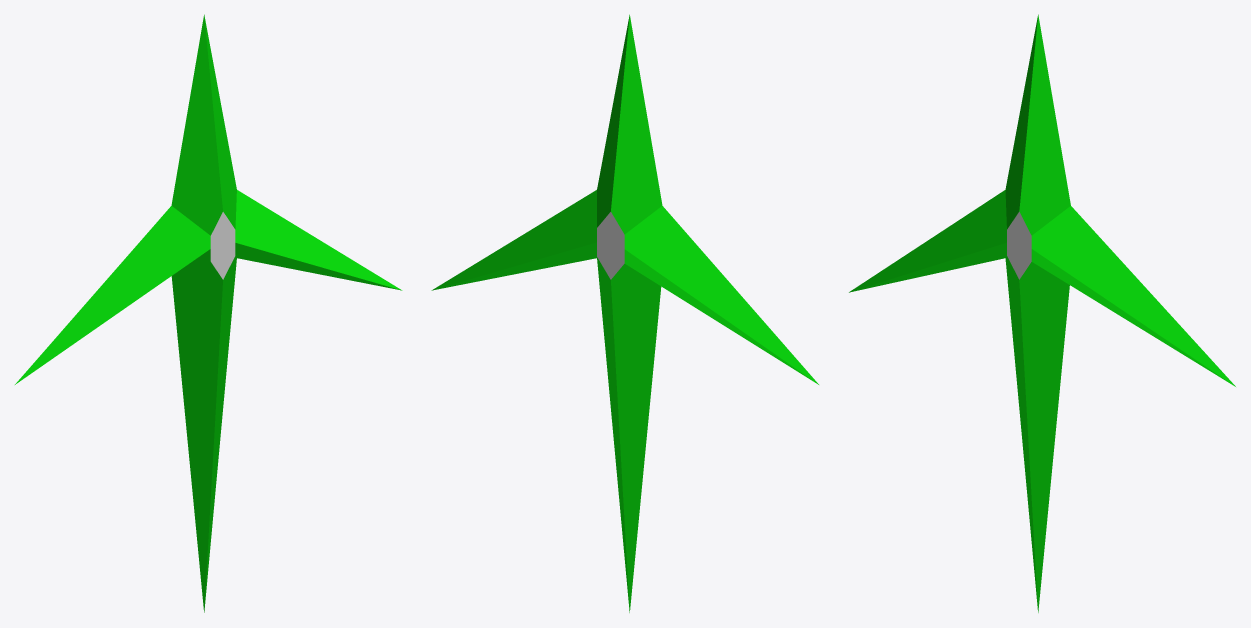
File: SportaticEnemy 1.fbx
3 renders of one model, left to right at view 1: azimuth 30°, elevation 25°; view 2: azimuth 150°, elevation 25°; view 3: azimuth 330°, elevation 25°, orthographic.
Parts seen in each view (by area): view 1: Cube.001; view 2: Cube.001; view 3: Cube.001.
Part boxes in pixels (left/top/right/bottom): Cube.001: left=15, top=14, right=402, bottom=612; Cube.001: left=431, top=14, right=818, bottom=612; Cube.001: left=849, top=14, right=1235, bottom=612.
Bounding box in the file's own units: 1187 × 1751 × 200.
